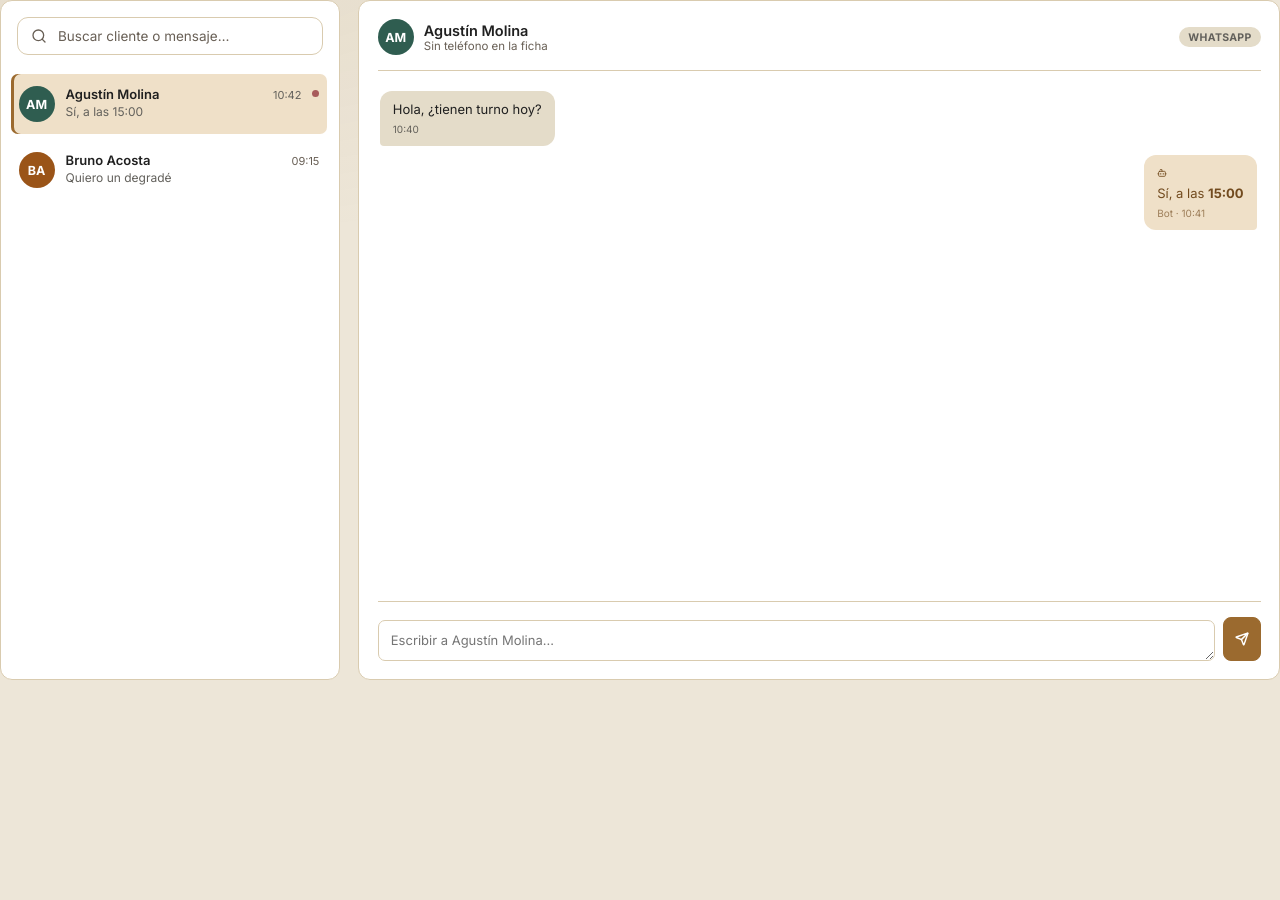
Scenario: Messages (vista completa) › conserva el borrador si el envío falla
In the text box named "Mensaje para Agustín Molina": {"x": 796, "y": 640} top-left (378, 620), bottom-right (1215, 661), type "Reintentar"
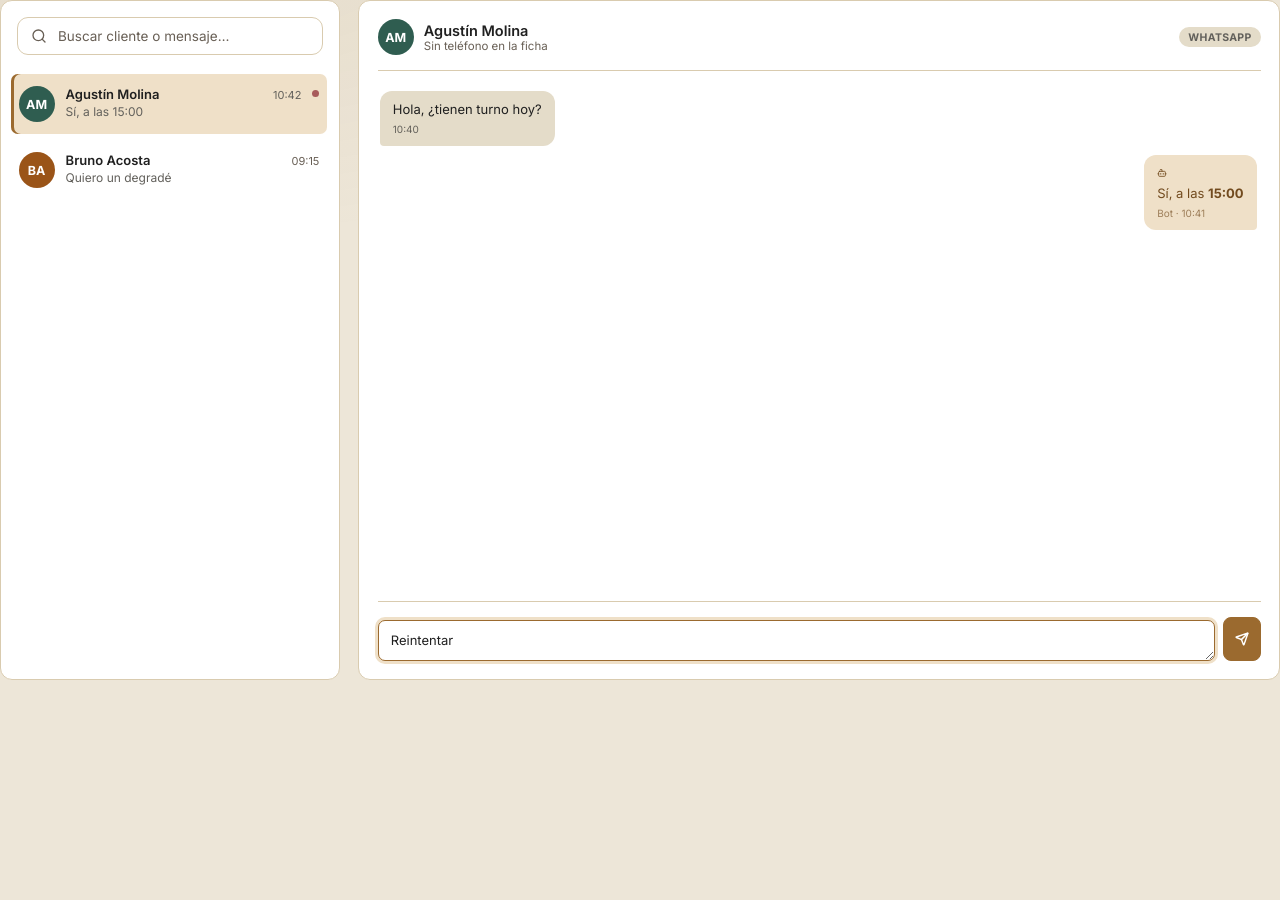
Click the button named "Enviar": {"x": 1242, "y": 639} top-left (1223, 617), bottom-right (1261, 661)
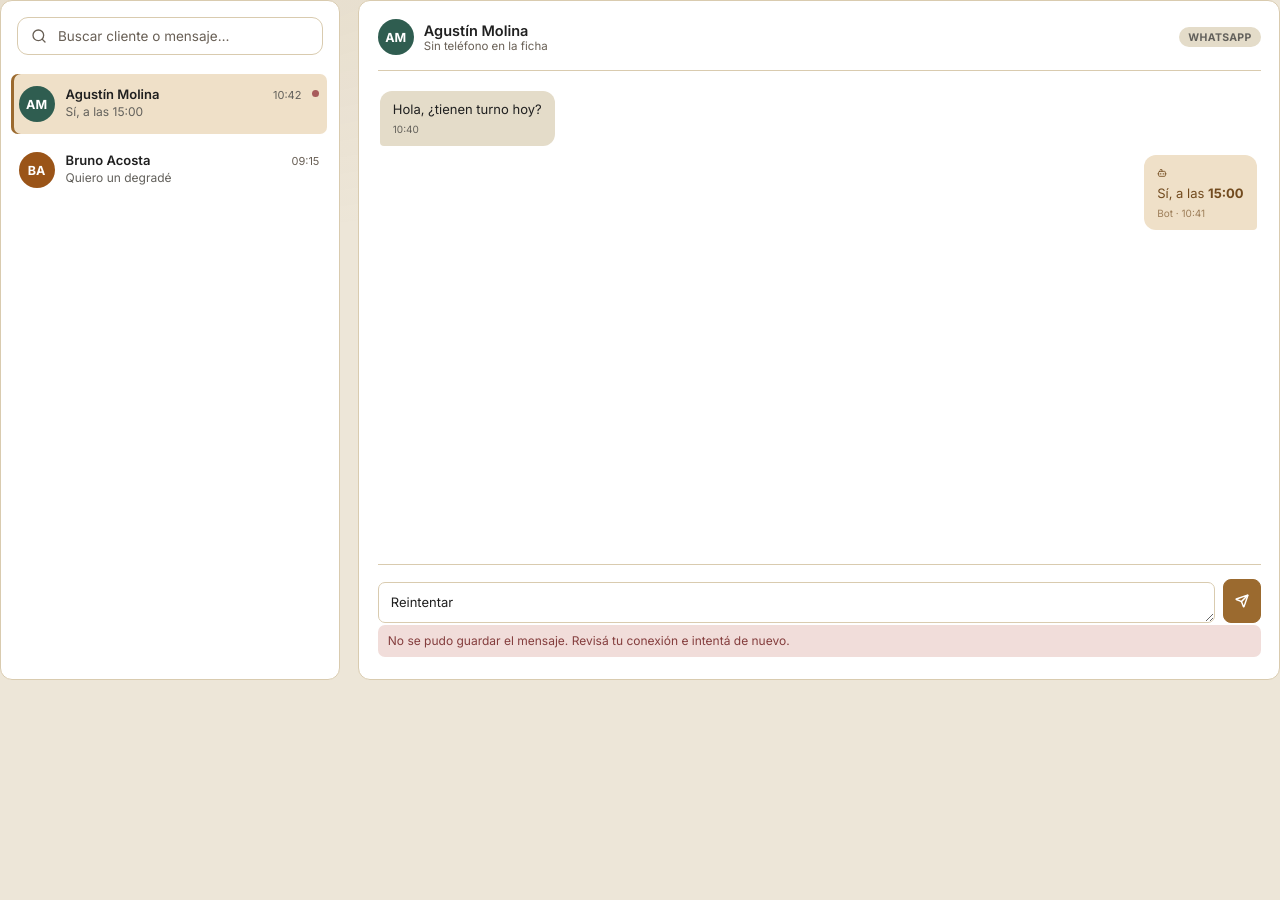
Expected: the message shows "Revisá tu conexión", top-left (388, 633), bottom-right (790, 648)
